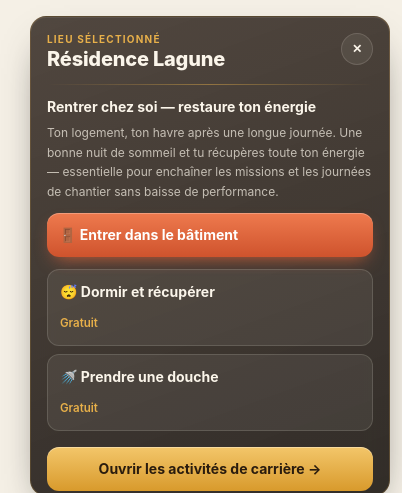
Test: Interactions dans la ville › signale un échec sans afficher de réussite
What coordinates should you click on to do the following:
click the button "😴 Dormir et récupérer Gratuit"
I would click on:
 (148, 292)
Its box is top-left (47, 269), bottom-right (373, 346).
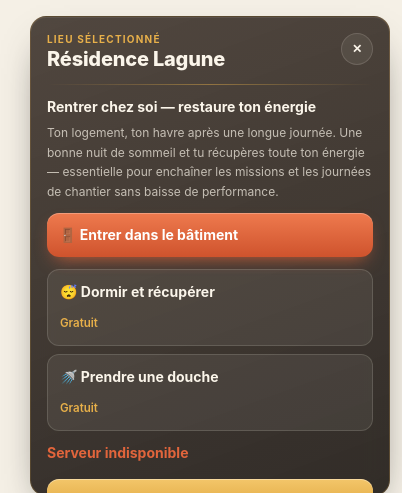
Now the message reads "Serveur indisponible", box top-left (47, 444), bottom-right (188, 461)
